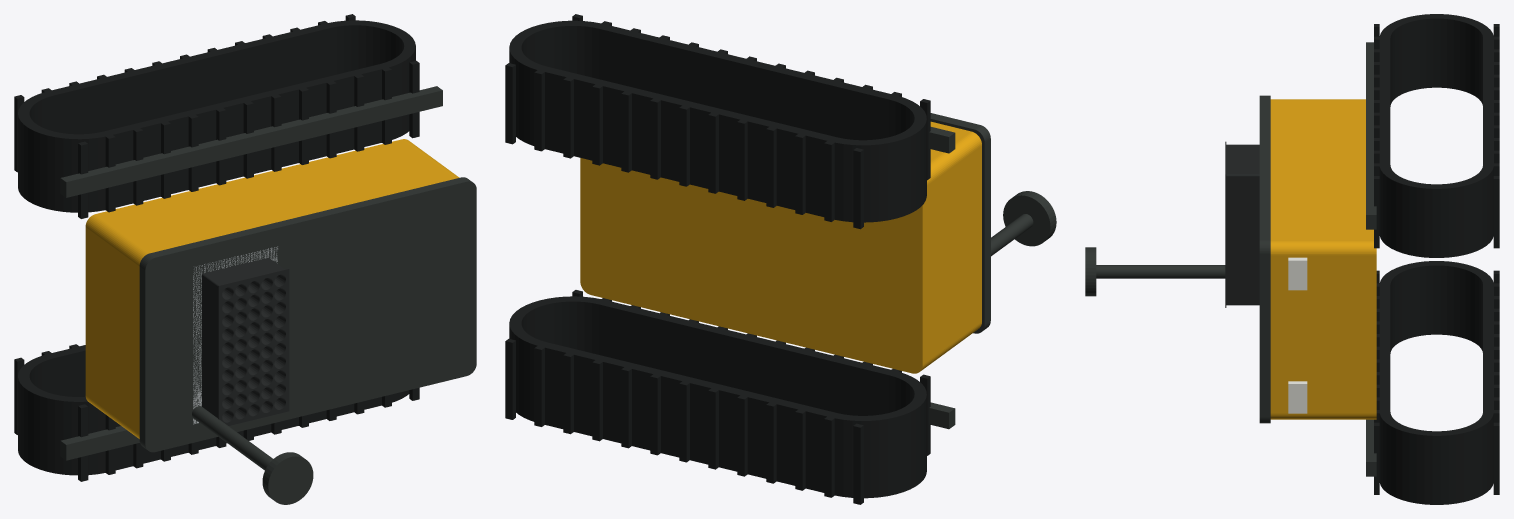
3 renders of one model, left to right at view 1: azimuth 30°, elevation 25°; view 2: azimuth 150°, elevation 25°; view 3: azimuth 270°, elevation 25°, orthographic. The views are drawn at different scales.
Parts seen in each view (by area): view 1: top_plate_1, track_left_4, chassis_0, active_tray_8, track_right_5, track_frames_6, camera_mast_3, tray_deck_7; view 2: chassis_0, track_left_4, track_right_5, camera_mast_3, top_plate_1, track_frames_6; view 3: chassis_0, track_left_4, track_right_5, active_tray_8, top_plate_1, camera_mast_3, track_frames_6, lamps_2.
Part boxes in pixels (bbox=[...]): top_plate_1: bbox=[139, 177, 476, 452]; track_left_4: bbox=[14, 14, 419, 218]; chassis_0: bbox=[85, 139, 459, 438]; active_tray_8: bbox=[202, 257, 289, 425]; track_right_5: bbox=[14, 344, 419, 481]; track_frames_6: bbox=[60, 86, 442, 460]; camera_mast_3: bbox=[192, 406, 313, 504]; tray_deck_7: bbox=[193, 246, 277, 424]; chassis_0: bbox=[580, 121, 981, 373]; track_left_4: bbox=[505, 14, 930, 229]; track_right_5: bbox=[505, 290, 930, 504]; camera_mast_3: bbox=[991, 191, 1056, 256]; top_plate_1: bbox=[930, 113, 990, 333]; track_frames_6: bbox=[929, 127, 955, 429]; chassis_0: bbox=[1270, 99, 1376, 419]; track_left_4: bbox=[1374, 14, 1499, 257]; track_right_5: bbox=[1374, 261, 1499, 504]; active_tray_8: bbox=[1225, 141, 1259, 307]; top_plate_1: bbox=[1259, 95, 1270, 423]; camera_mast_3: bbox=[1085, 247, 1225, 296]; track_frames_6: bbox=[1366, 42, 1376, 476]; lamps_2: bbox=[1288, 257, 1307, 413].
Bounding box in the file's own units: 1.52 × 1.28 × 1.52.
